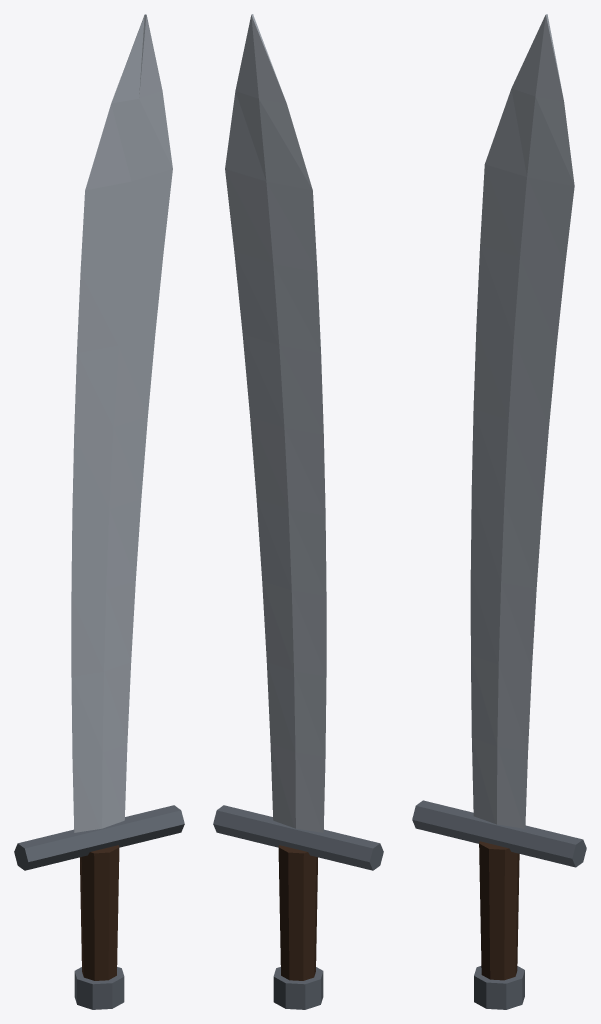
The model's file is g-scimitar-falchion.glb.
3 renders of one model, left to right at view 1: azimuth 30°, elevation 25°; view 2: azimuth 150°, elevation 25°; view 3: azimuth 330°, elevation 25°, orthographic. The views are drawn at different scales.
Parts seen in each view (by area): view 1: g-scimitar-falchion; view 2: g-scimitar-falchion; view 3: g-scimitar-falchion.
Part boxes in pixels (x1,y1,x2,y2): g-scimitar-falchion: (14, 14, 184, 1009); g-scimitar-falchion: (213, 14, 383, 1009); g-scimitar-falchion: (412, 14, 586, 1009).
Bounding box in the file's own units: 0.14 × 0.832 × 0.04.
